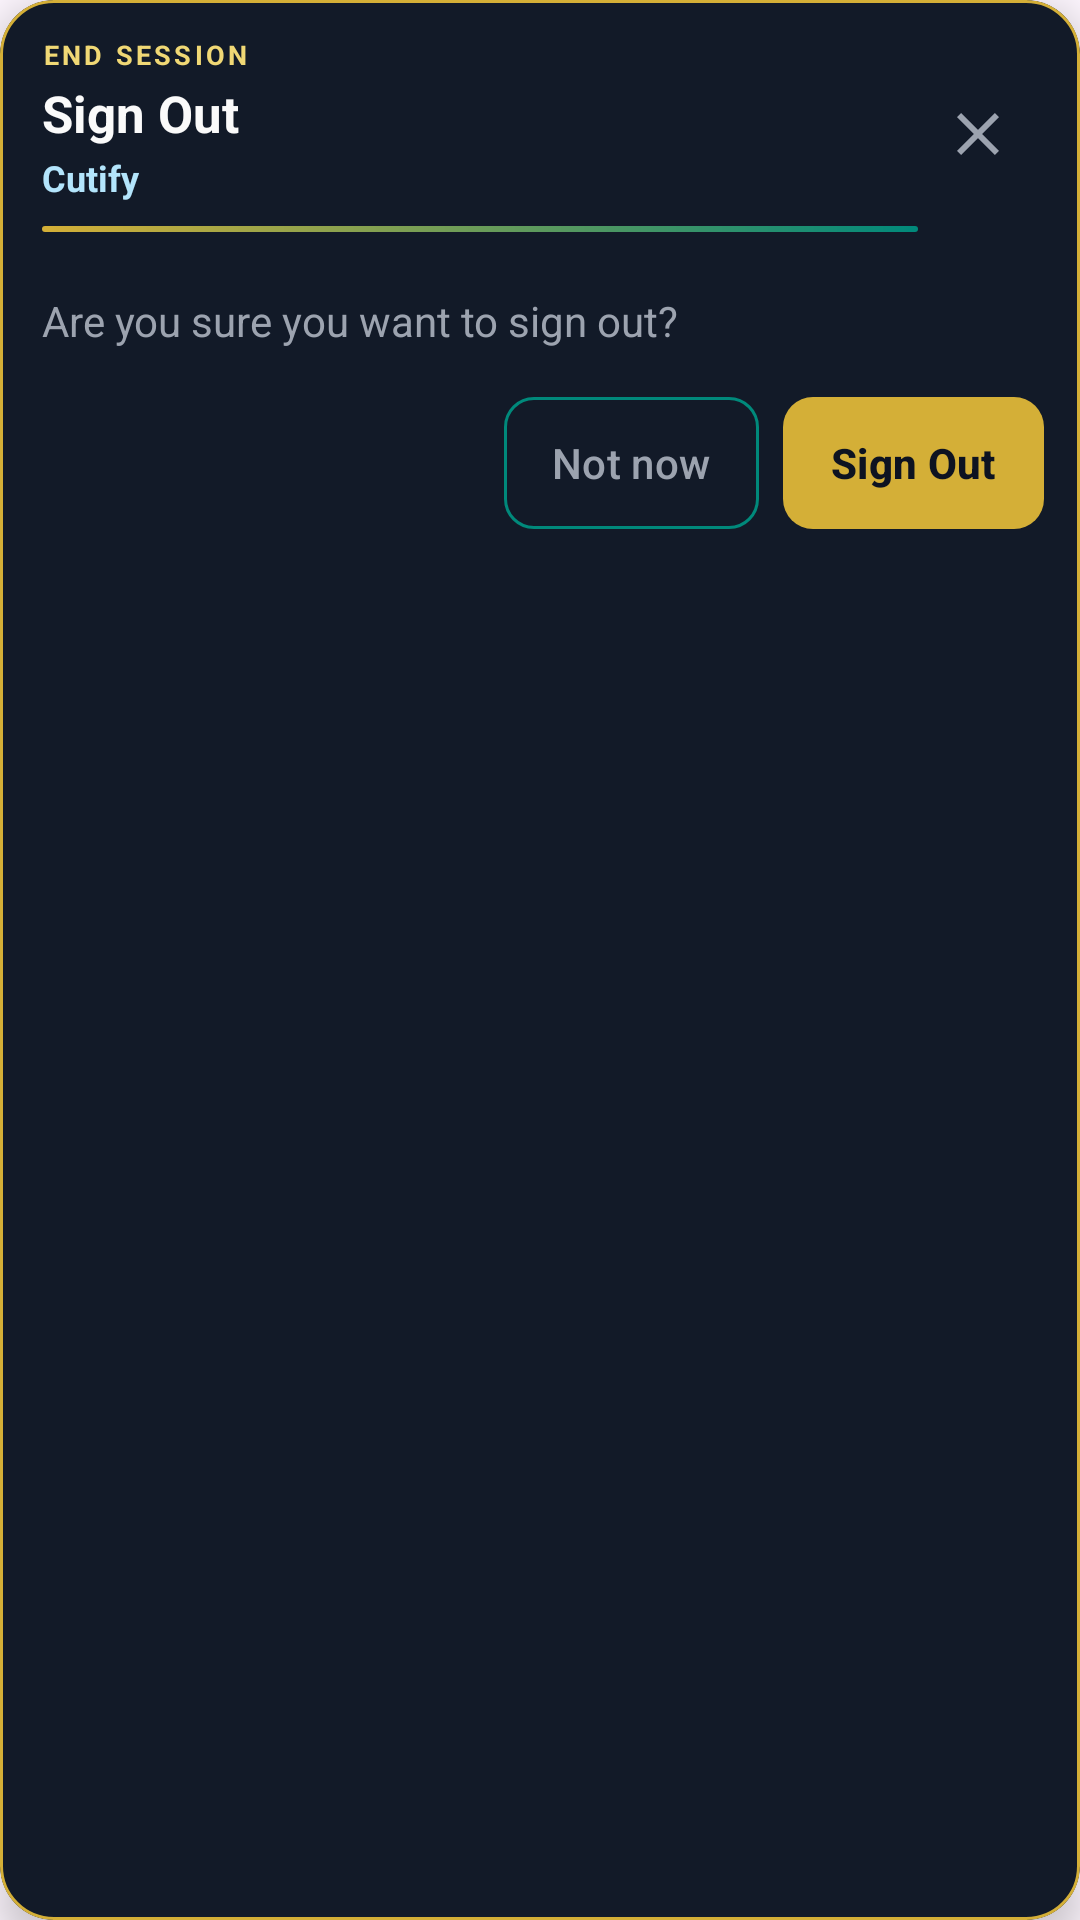

Point at icon controls on the screen. Image size 1080 x 1920, points as (x,y).
Close: (978,134)
